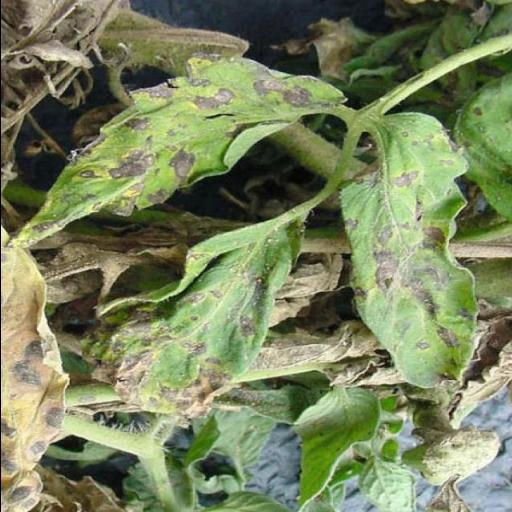Early Blight: (2, 55, 332, 224), (84, 216, 306, 420), (340, 107, 474, 395)
